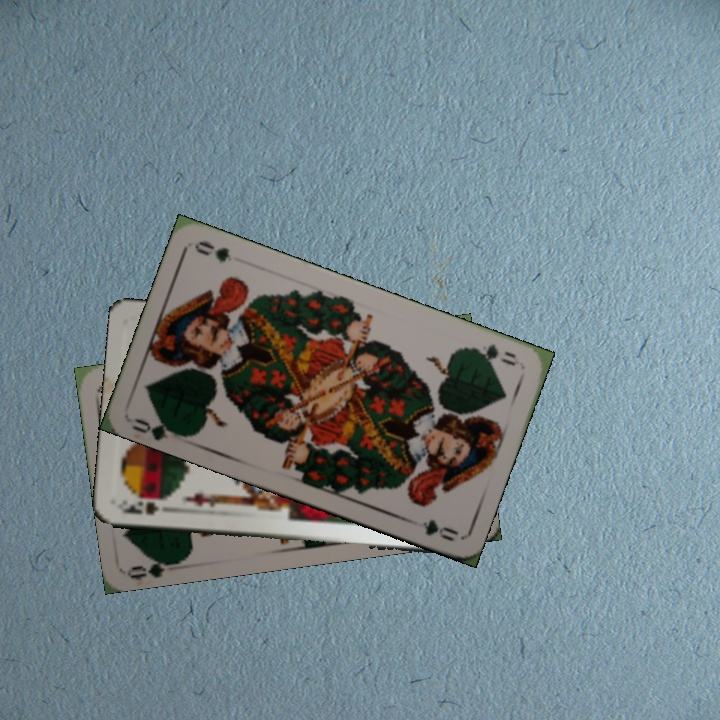GO: (128, 411, 186, 442), (126, 552, 185, 581), (465, 340, 519, 369)
SK: (117, 493, 177, 518)
